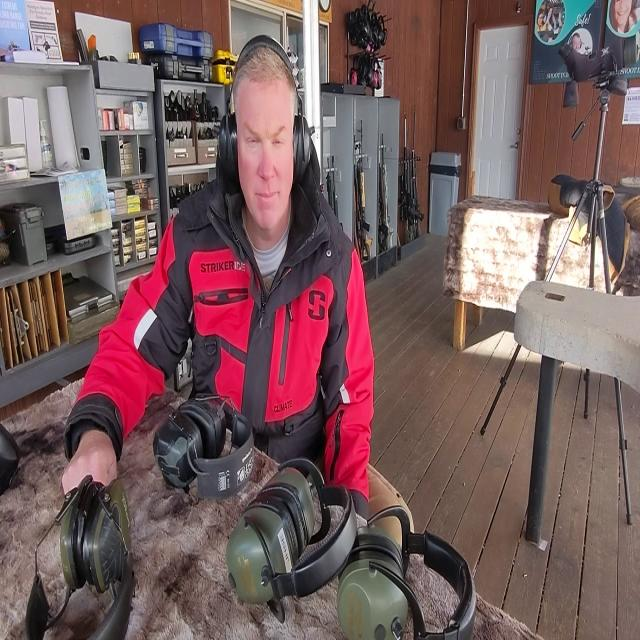earmuff: (207, 100, 242, 198), (290, 111, 318, 191)
